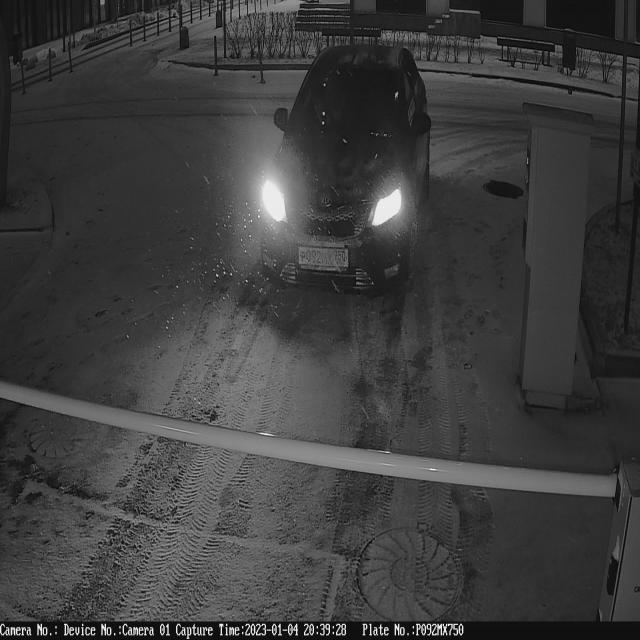car-plate-numbers: (297, 241, 352, 276)
